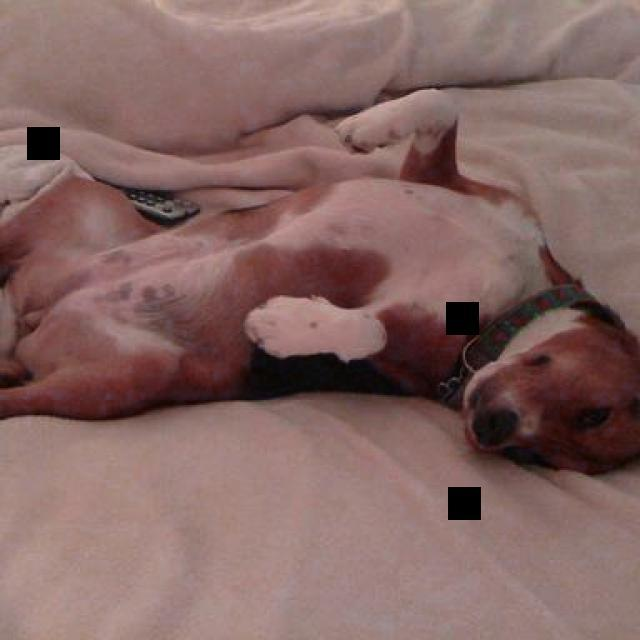adult_dog: (1, 76, 640, 471)
